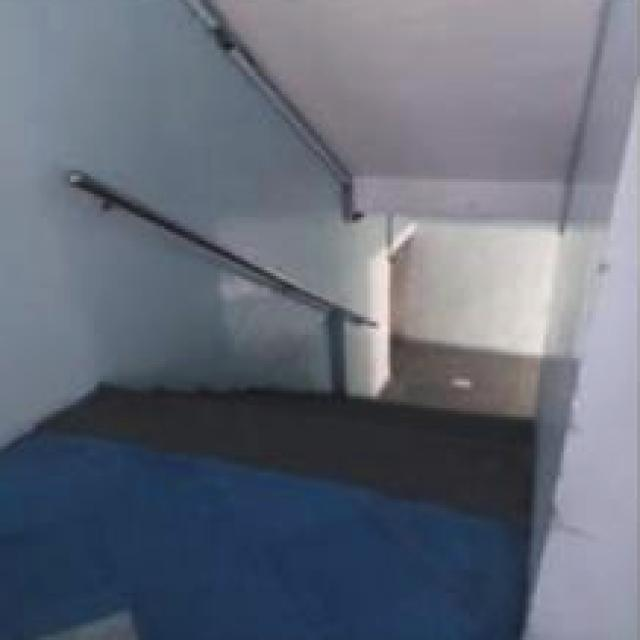downstair: (180, 292, 530, 480)
